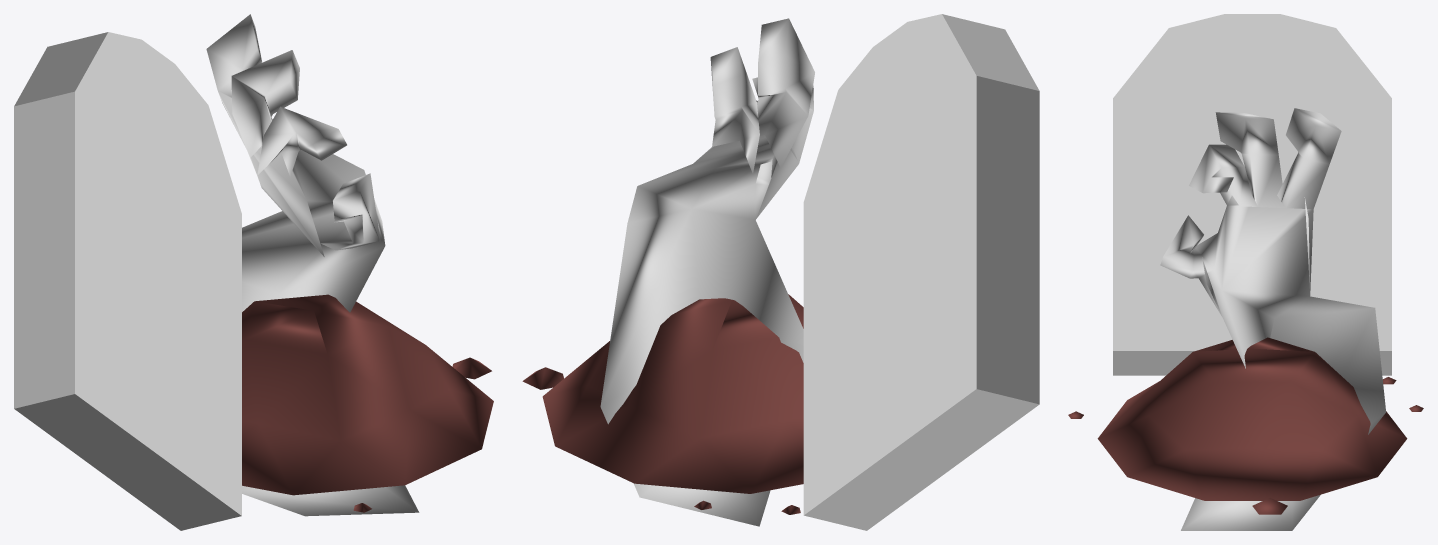
Rendered from spetral_hand.glb.
3 renders of one model, left to right at view 1: azimuth 30°, elevation 25°; view 2: azimuth 150°, elevation 25°; view 3: azimuth 270°, elevation 25°, orthographic. The views are drawn at different scales.
Parts seen in each view (by area): view 1: Cube001, Icosphere, Cube; view 2: Cube001, Cube, Icosphere; view 3: Cube001, Icosphere, Cube.
Part boxes in pixels (x1,y1,x2,y2): Cube001: (14,32,241,530); Icosphere: (242,294,493,512); Cube: (206,14,419,516); Cube001: (803,14,1039,530); Cube: (600,18,814,526); Icosphere: (522,294,803,514); Cube001: (1113,14,1391,375); Icosphere: (1068,337,1423,514); Cube: (1160,108,1385,530).
Bounding box in the file's own units: 2.48 × 2.89 × 2.3.
